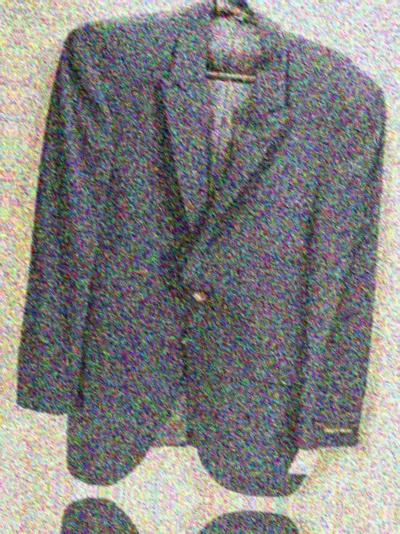Blazer: (0, 0, 400, 507), (0, 491, 374, 534), (0, 0, 5, 476), (391, 523, 400, 534)
